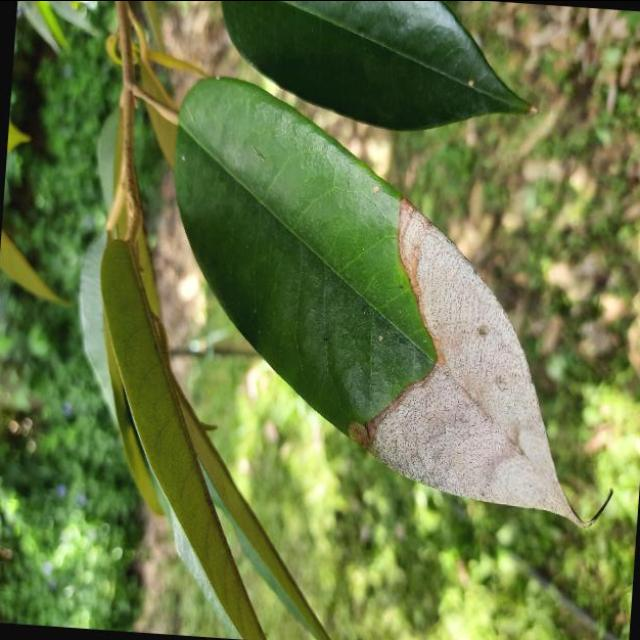Leaf Blight: (140, 59, 622, 536)
